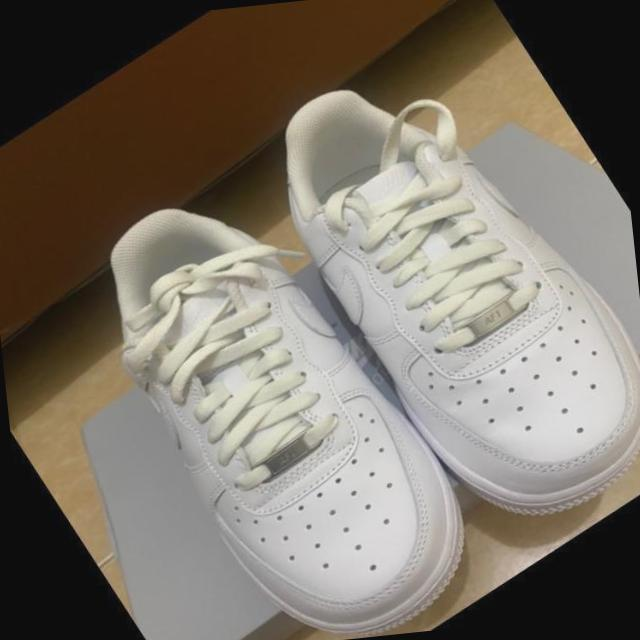nike_original_airforce: (16, 126, 517, 640), (218, 0, 640, 585)
